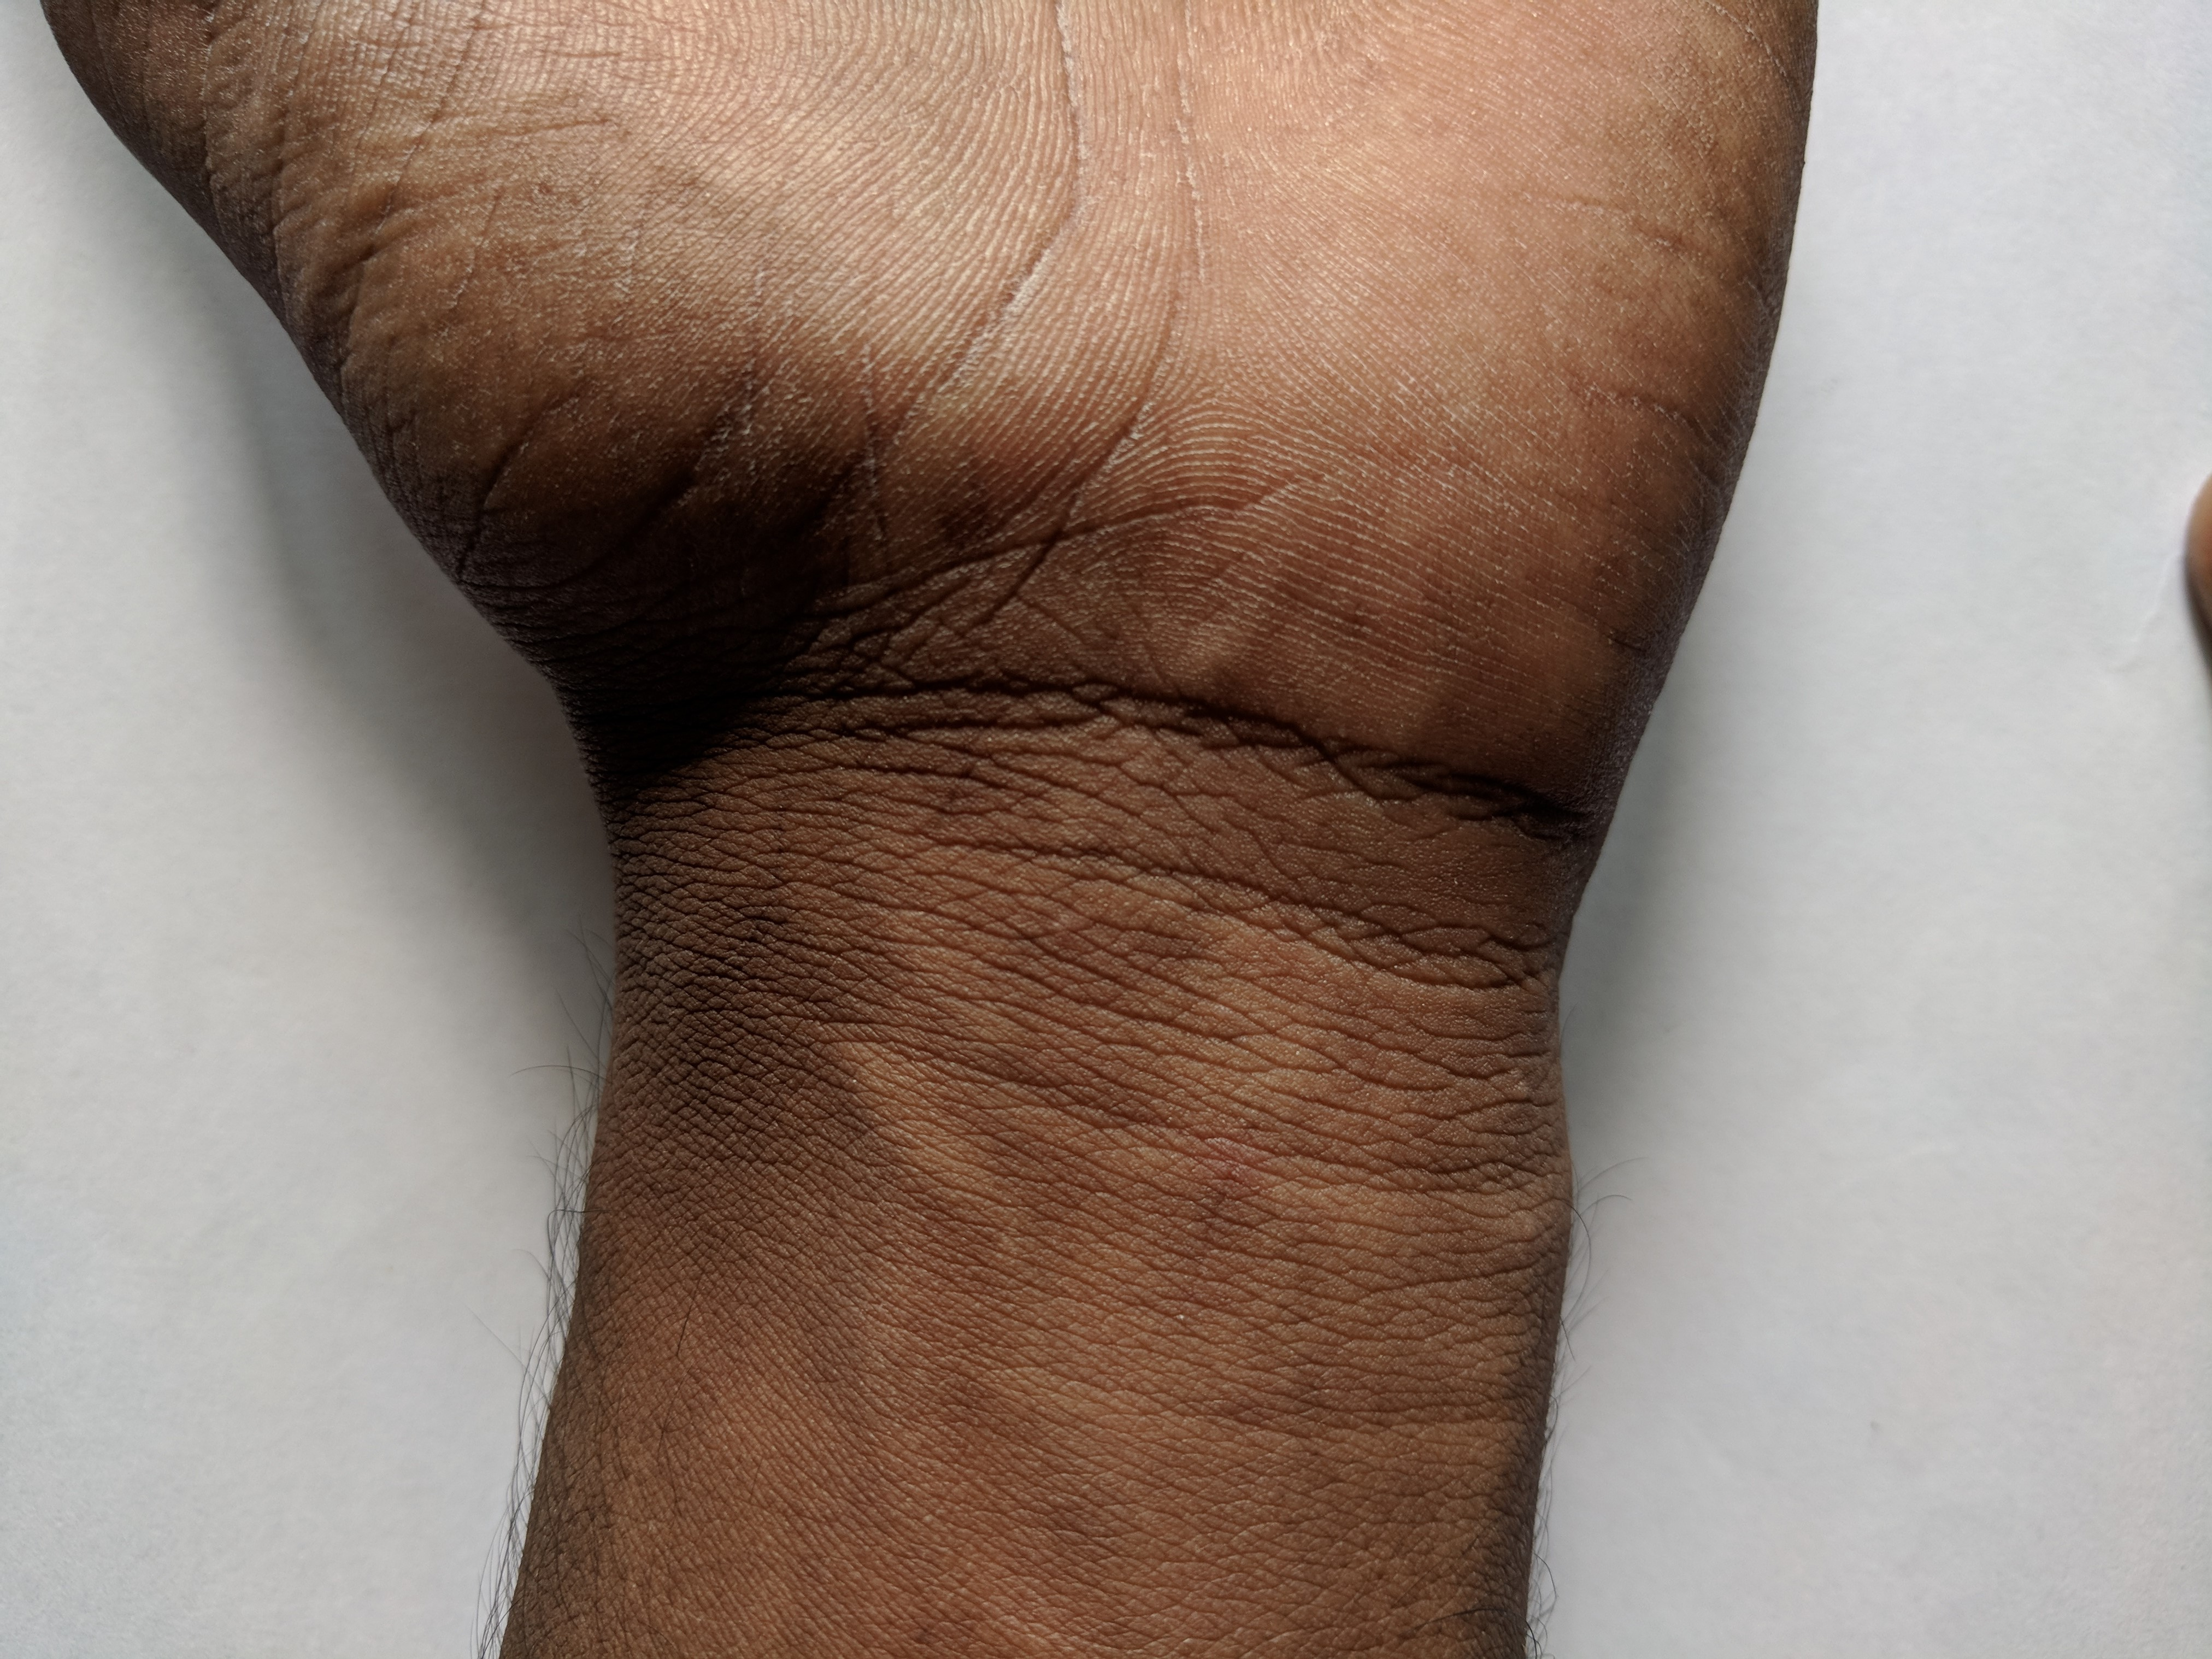lefthandwrist: (470, 599, 1700, 1141)
